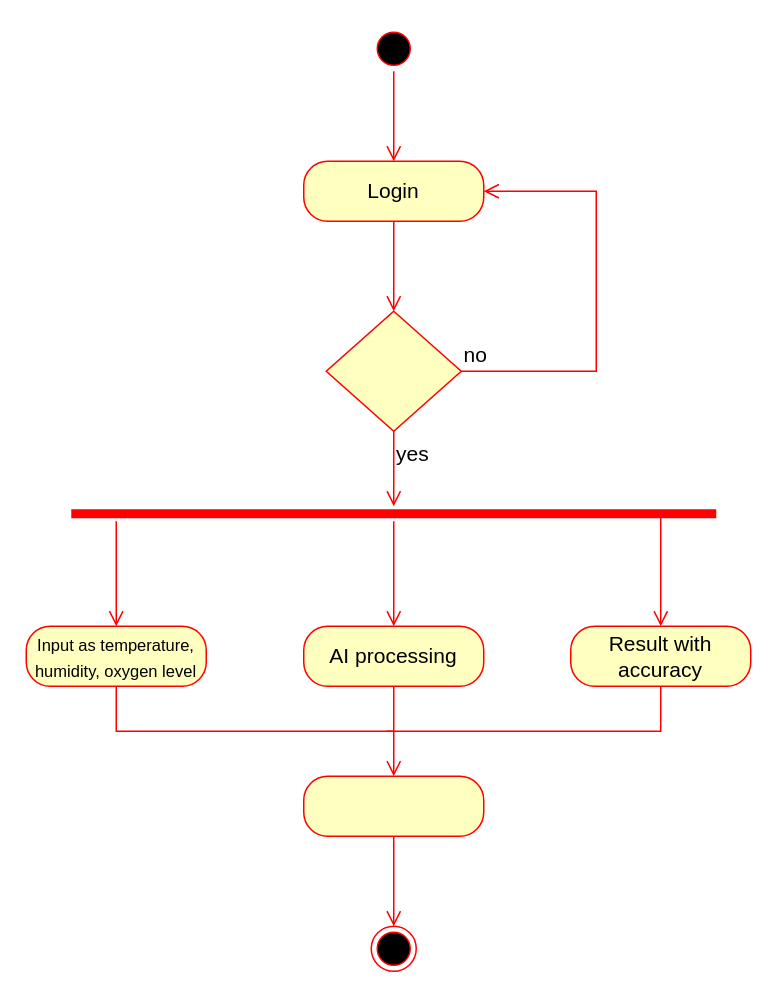
The diagram is 777 pixels wide and 998 high, and some of its shapes have lost their labels. Each missing label, with the centre of its shape:
Logout: (x=393, y=805)
Validation: (x=393, y=370)
